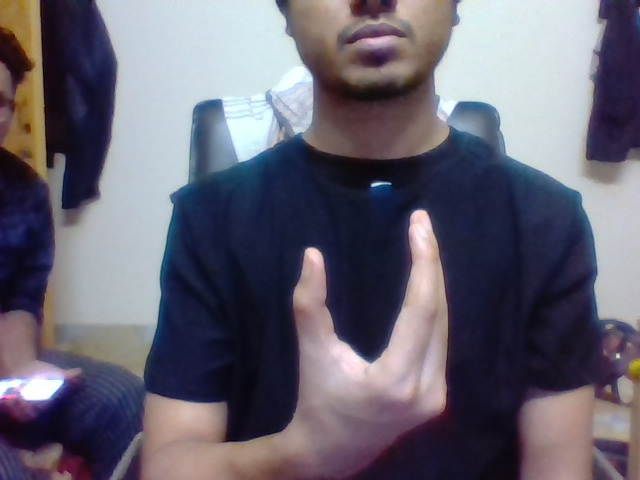U: (281, 197, 462, 380)
